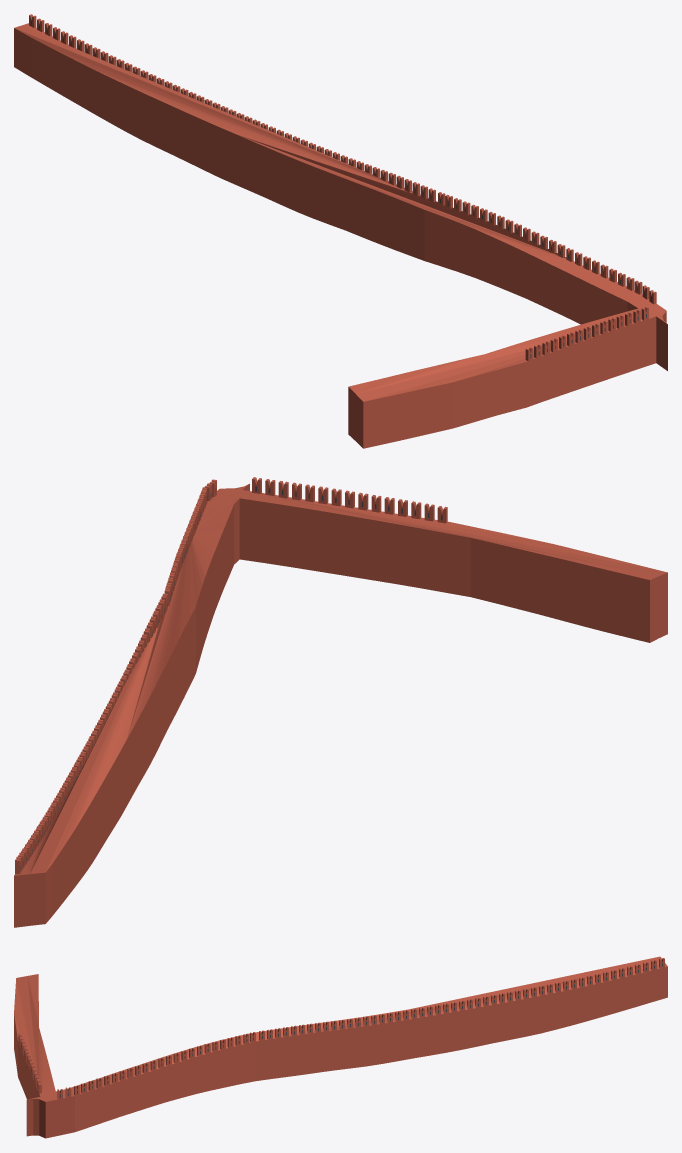
Rendered from moscow-kremlin-wall-constantine-peters.glb.
3 renders of one model, top to bottom at view 1: azimuth 30°, elevation 25°; view 2: azimuth 150°, elevation 25°; view 3: azimuth 270°, elevation 25°, orthographic. The views are drawn at different scales.
Parts seen in each view (by area): view 1: Kremlin Wall, Constantine and Helen Tower to Peter's Tower; view 2: Kremlin Wall, Constantine and Helen Tower to Peter's Tower; view 3: Kremlin Wall, Constantine and Helen Tower to Peter's Tower.
Part boxes in pixels (x1,y1,x2,y2): Kremlin Wall, Constantine and Helen Tower to Peter's Tower: (14,14,667,448); Kremlin Wall, Constantine and Helen Tower to Peter's Tower: (14,477,667,927); Kremlin Wall, Constantine and Helen Tower to Peter's Tower: (14,956,667,1138).
Size of the model in its own units: 69.35 by 23.57 by 155.
